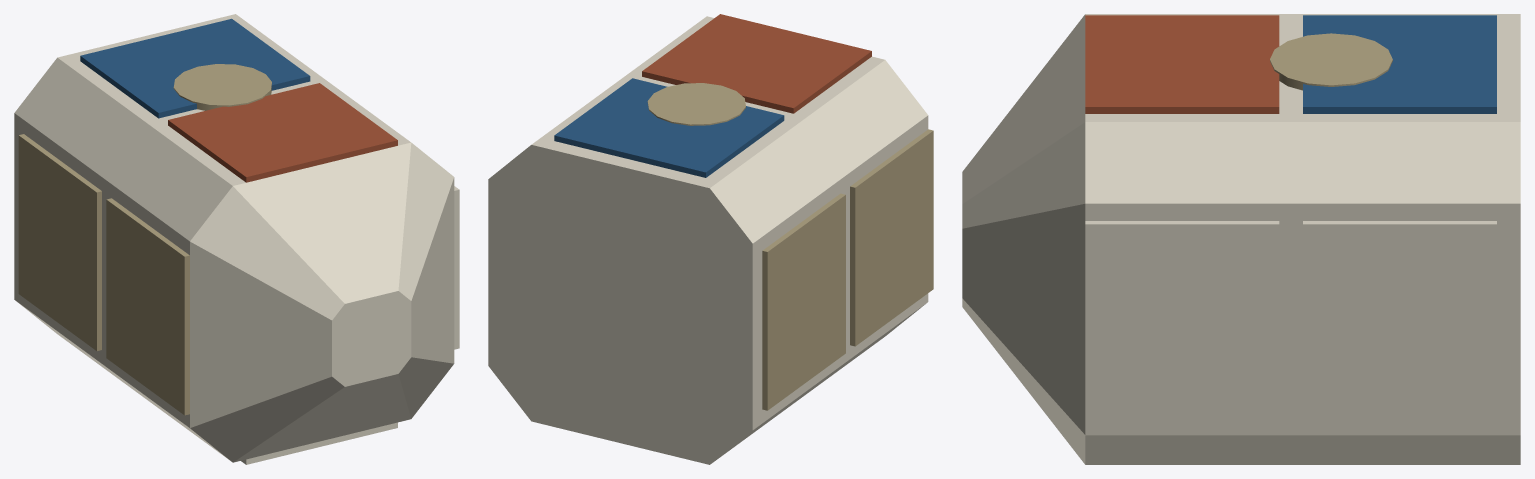
Rendered from pellet_shell.obj.
The picture shows the model from 3 angles, left to right: view 1: azimuth 30°, elevation 25°; view 2: azimuth 150°, elevation 25°; view 3: azimuth 270°, elevation 25°; orthographic projection. The views are drawn at different scales.
Parts seen in each view (by area): view 1: pellet_shell; view 2: pellet_shell; view 3: pellet_shell.
Boxes of the visible parts, x1,y1,x2,y2 form: pellet_shell: [14, 14, 459, 464]; pellet_shell: [488, 14, 933, 464]; pellet_shell: [962, 14, 1520, 464].
Bounding box in the file's own units: 0.832 × 0.836 × 1.18.
